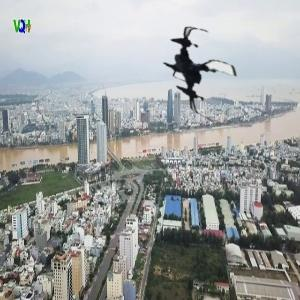drone: (157, 28, 248, 119)
